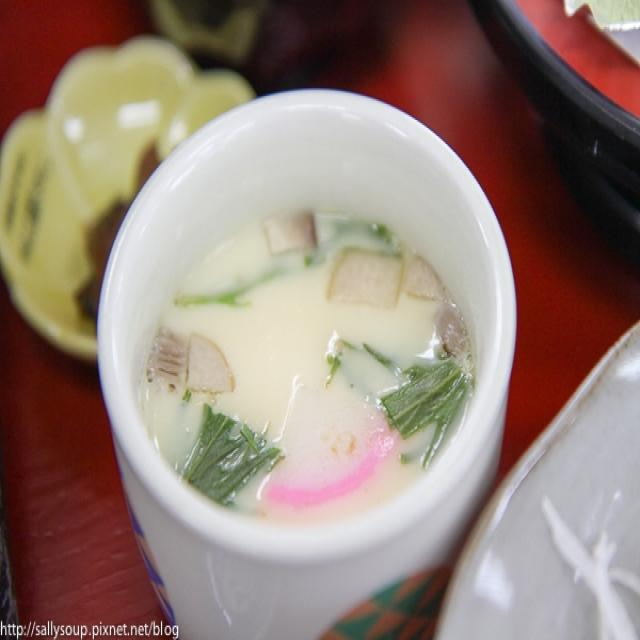豆腐料理: (92, 90, 533, 560)
